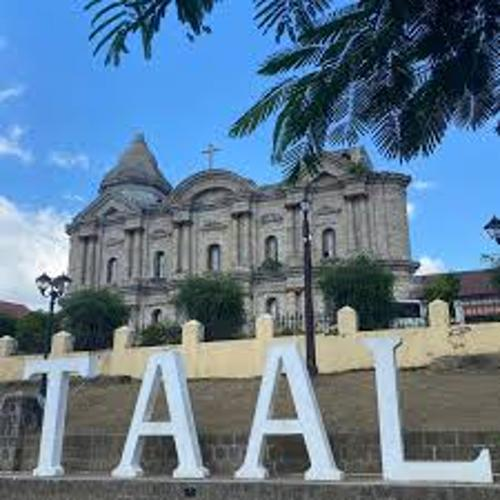Taal Basilica Church: (59, 120, 432, 338)
